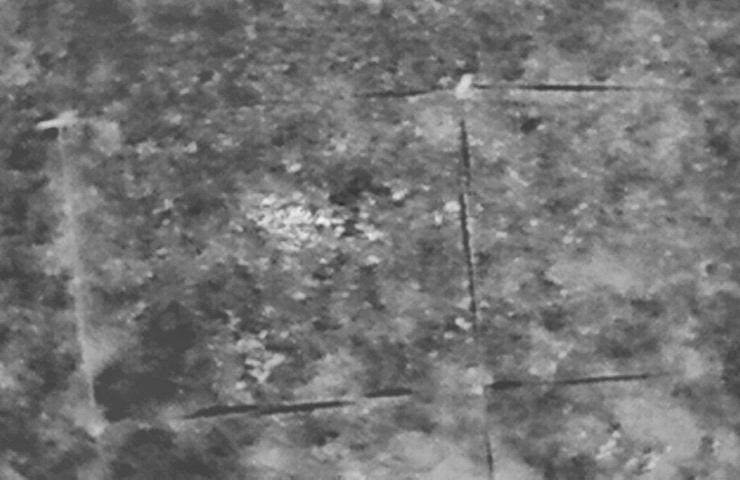landmines: (248, 181, 354, 251)
